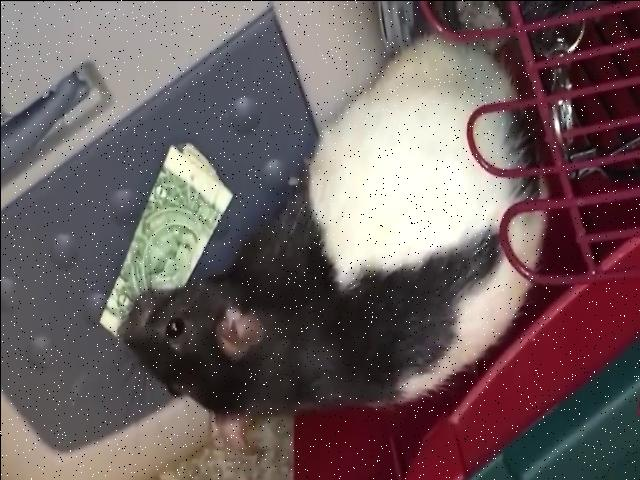Tikus: (113, 35, 551, 457)
